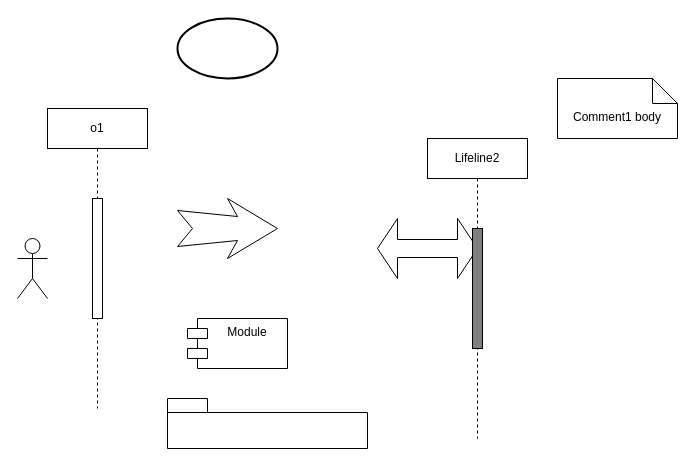
Some shapes in this 695 by 466 pixel diagram are drawn without their labels. Each missing label, with the centre of its shape:
"Actor" belongs at (x=32, y=268).
"package" belongs at (x=267, y=423).
